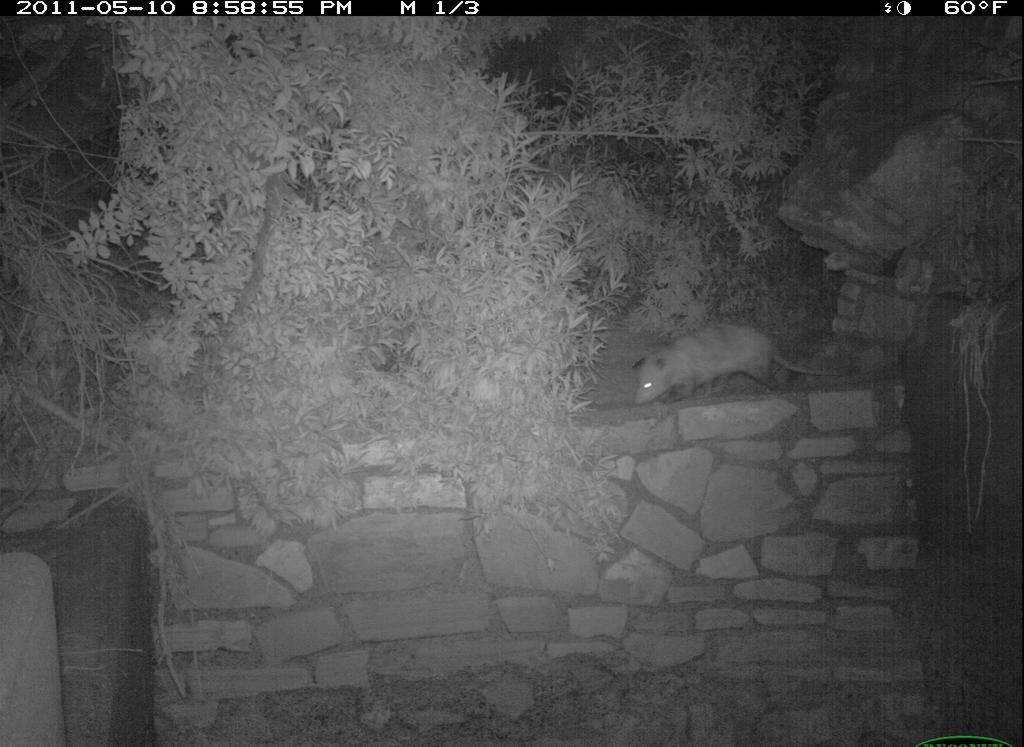opossum: (621, 318, 852, 419)
